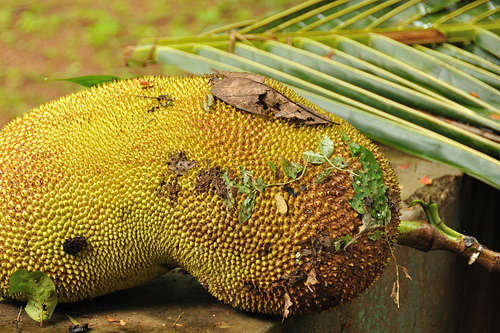jackfruit: (0, 71, 499, 320)
